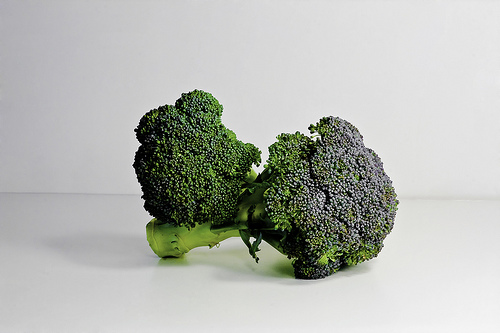broccoli: (146, 114, 397, 277), (129, 91, 260, 231)
